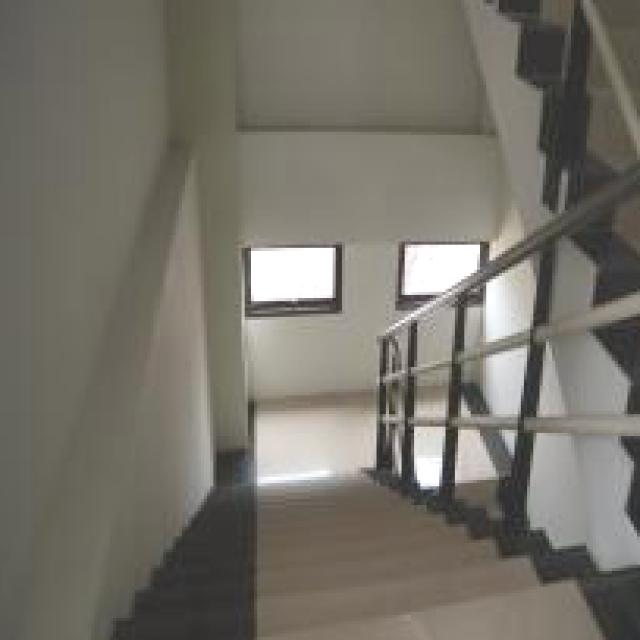downstair: (139, 474, 478, 640)
